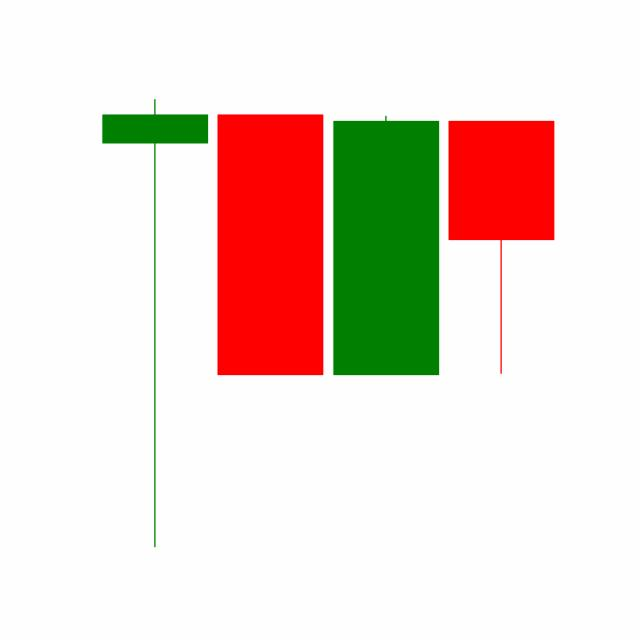Hammer: (443, 117, 559, 376)
